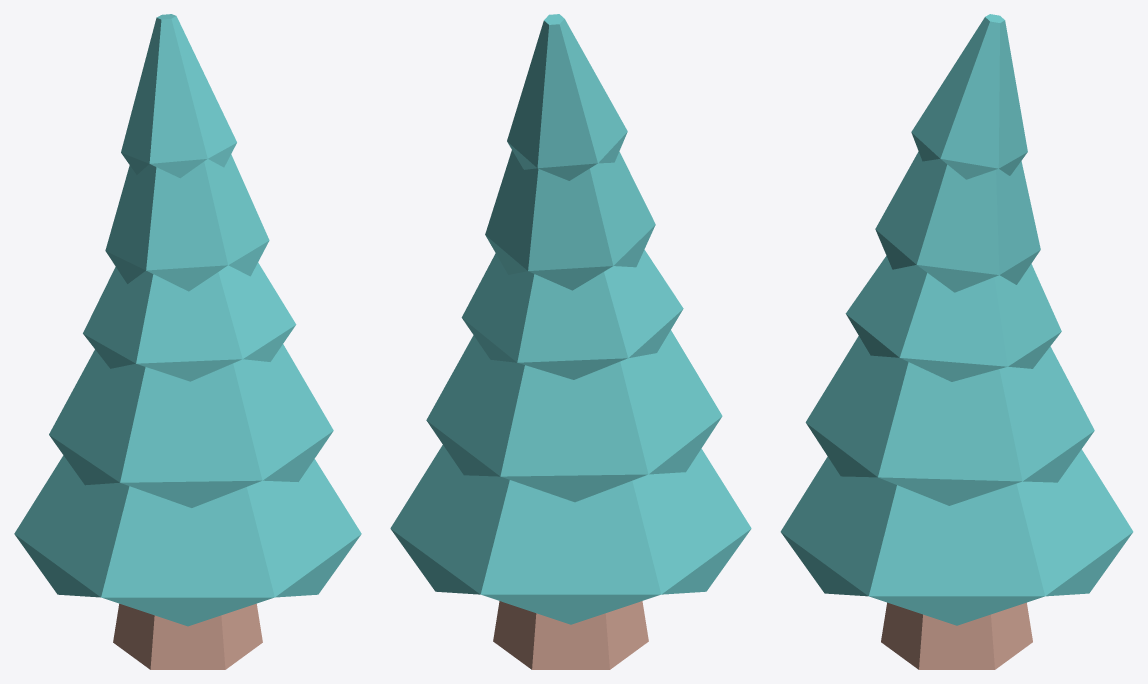
File: tree_pineRoundD.glb
3 renders of one model, left to right at view 1: azimuth 30°, elevation 25°; view 2: azimuth 150°, elevation 25°; view 3: azimuth 270°, elevation 25°, orthographic. The views are drawn at different scales.
Parts seen in each view (by area): view 1: tree_pineRoundD; view 2: tree_pineRoundD; view 3: tree_pineRoundD.
Boxes of the visible parts, x1=… form: tree_pineRoundD: x1=14, y1=14, x2=361, y2=669; tree_pineRoundD: x1=390, y1=14, x2=751, y2=669; tree_pineRoundD: x1=780, y1=14, x2=1133, y2=669.
Size of the model in its own units: 0.4804 by 1.08 by 0.5547.
Materials: 1 (1 with a texture image).
